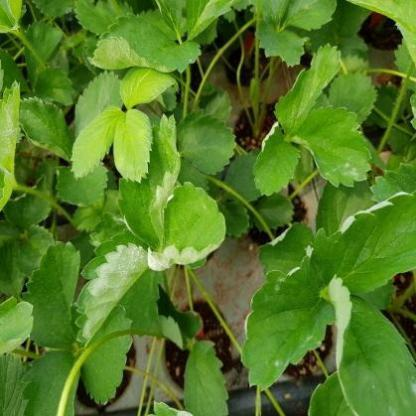Strawberry_Powdery_Mildew_Leaf: (242, 236, 334, 391), (327, 273, 415, 415), (314, 188, 415, 294), (116, 112, 181, 252), (74, 228, 148, 348), (148, 182, 226, 272), (288, 105, 372, 188), (273, 42, 341, 137), (252, 120, 302, 196)
